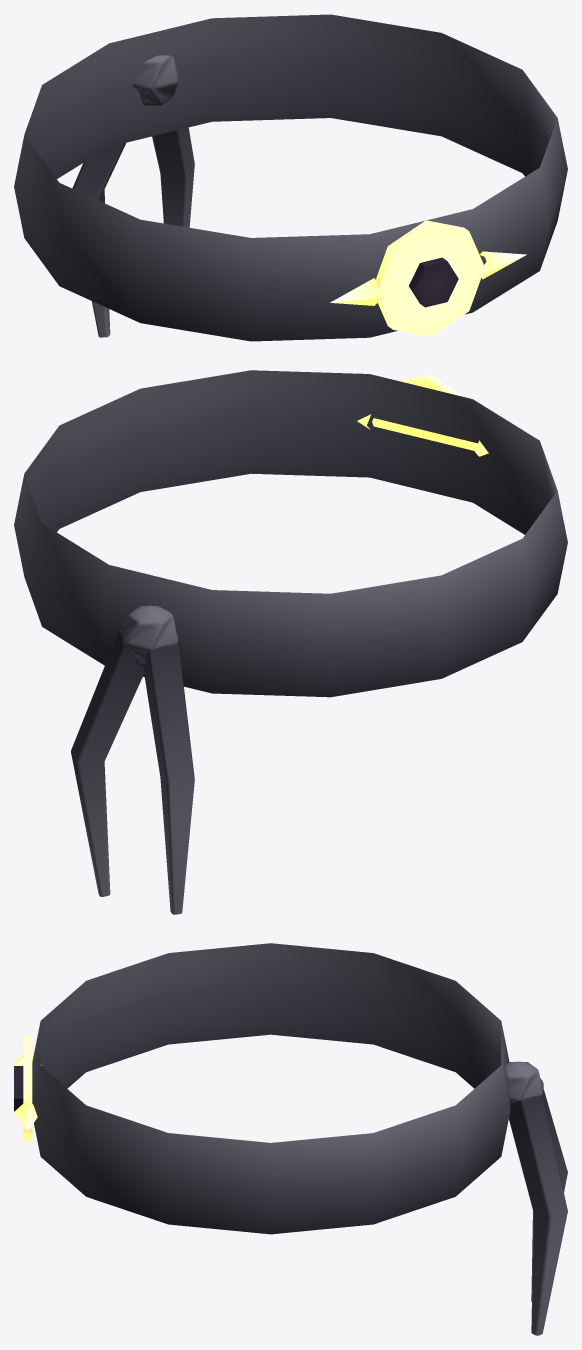
Rendered from lg_augur_blindfold.glb.
The picture shows the model from 3 angles, top to bottom: view 1: azimuth 30°, elevation 25°; view 2: azimuth 150°, elevation 25°; view 3: azimuth 270°, elevation 25°; orthographic projection. The views are drawn at different scales.
Visible parts, largest first — view 1: lg_augur_blindfold, lg_augur_blindfold_glow, lg_augur_blindfold_trim; view 2: lg_augur_blindfold, lg_augur_blindfold_glow; view 3: lg_augur_blindfold, lg_augur_blindfold_glow.
Boxes of the visible parts, x1,y1,x2,y2 form: lg_augur_blindfold: [14, 14, 567, 341]; lg_augur_blindfold_glow: [330, 220, 526, 336]; lg_augur_blindfold_trim: [409, 257, 458, 307]; lg_augur_blindfold: [14, 370, 567, 914]; lg_augur_blindfold_glow: [357, 374, 488, 456]; lg_augur_blindfold: [32, 943, 567, 1335]; lg_augur_blindfold_glow: [14, 1037, 41, 1140].
Bounding box in the file's own units: 2.14 × 1.34 × 2.41.
